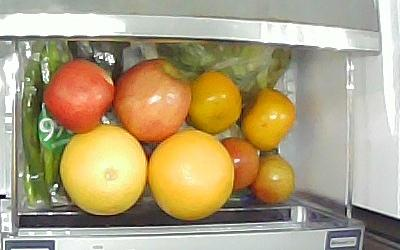apple: (115, 58, 192, 142), (43, 58, 116, 134)
grapefruit: (58, 127, 148, 214), (148, 130, 234, 220)
persimmon: (187, 69, 241, 134), (242, 88, 297, 151)
prune: (219, 138, 259, 193), (250, 156, 296, 203)
